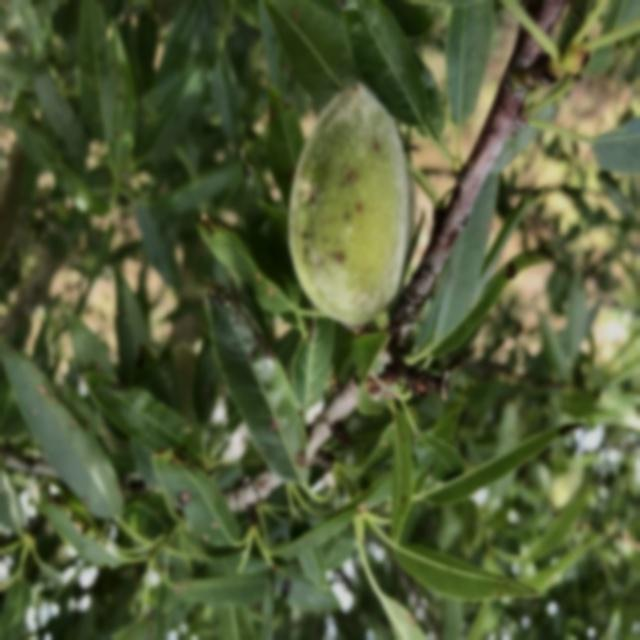leaf_spot: (284, 68, 422, 366)
